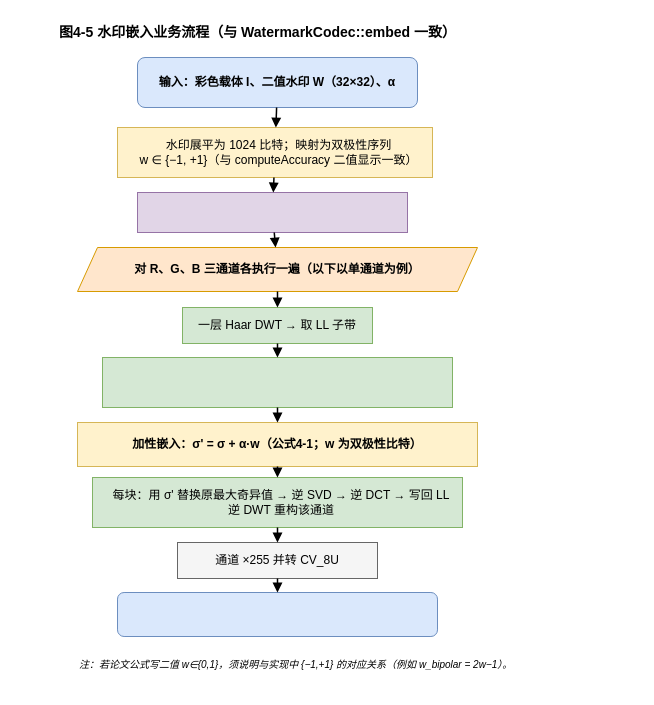
The diagram is 654 pixels wide and 705 high, and some of its shapes have lost their labels. Here are the shapes that lost their labels. From the top down, the centre of each, then its label:
the point at 272,212: split(I) → B,G,R；各通道归一化 [0,1] float
the point at 277,382: LL：8×8 非重叠分块 → 每块 DCT → SVD（取最大奇异值 σ） 形成与块网格对齐的 σ 矩阵
the point at 277,614: merge(B,G,R) → 输出含水印彩色图 Iw
